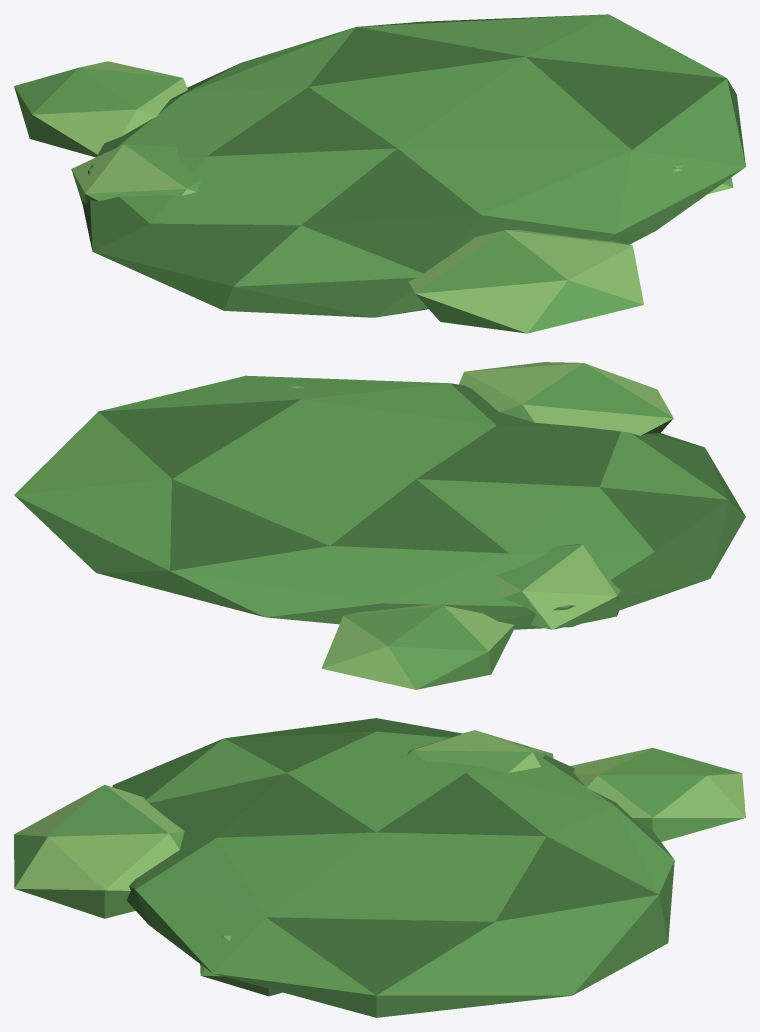
File: moss_patch_b.glb
3 views of the same model, one above another, from view 1: azimuth 30°, elevation 25°; view 2: azimuth 150°, elevation 25°; view 3: azimuth 270°, elevation 25° (orthographic). The views are drawn at different scales.
Visible parts, largest first — view 1: MossPatchB; view 2: MossPatchB; view 3: MossPatchB.
Boxes of the visible parts, <box> form: MossPatchB: <box>14,14,745,333</box>; MossPatchB: <box>14,362,745,689</box>; MossPatchB: <box>14,718,745,1017</box>.
Bounding box in the file's own units: 1.1 × 0.0735 × 1.14.
